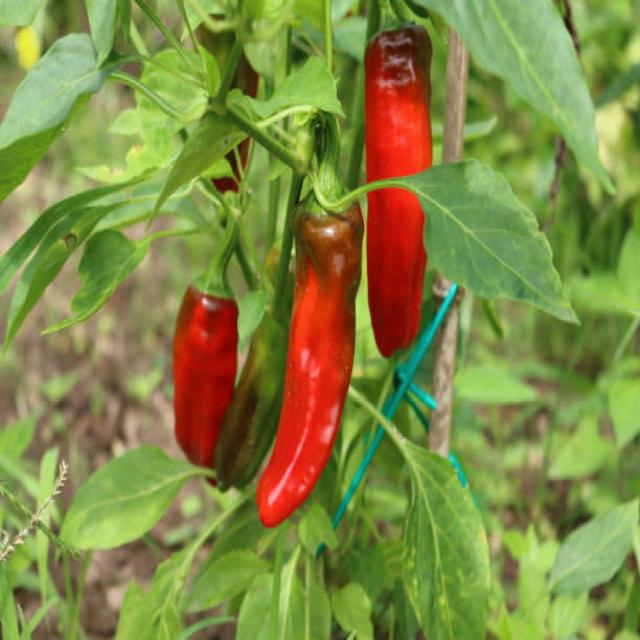Ripe: (256, 204, 362, 525), (365, 25, 431, 359), (174, 285, 236, 466)
Unripe: (208, 229, 292, 505)
